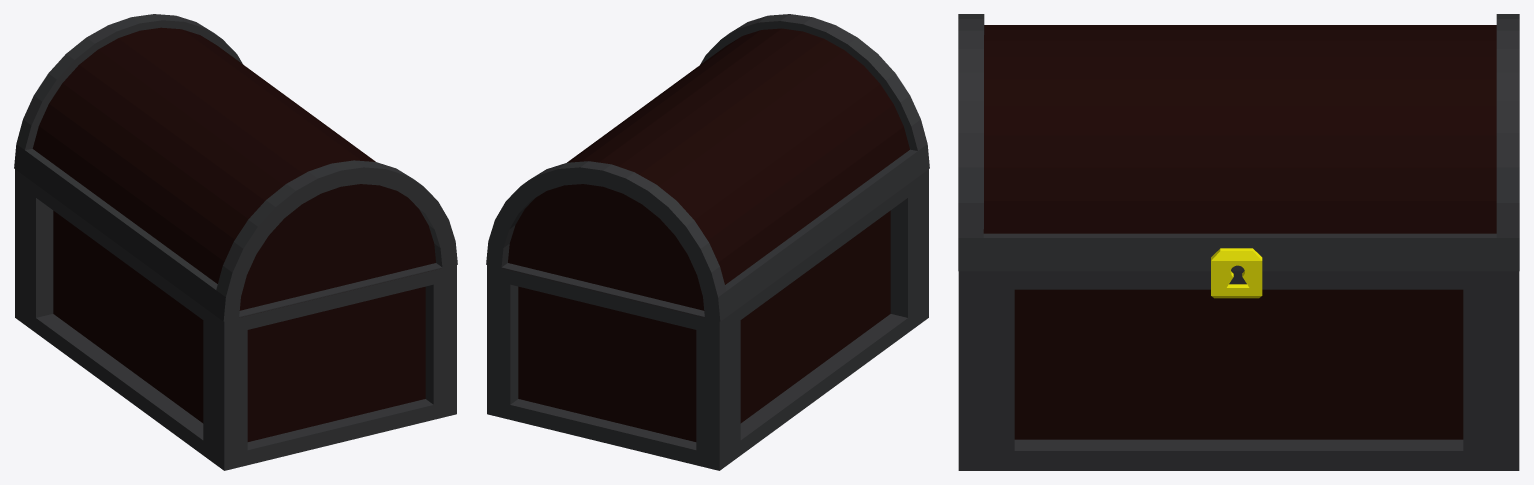
The model's file is chest.obj.
3 views of the same model, side by side, from view 1: azimuth 30°, elevation 25°; view 2: azimuth 150°, elevation 25°; view 3: azimuth 270°, elevation 25° (orthographic). The views are drawn at different scales.
Visible parts, largest first — view 1: Top, Bottom; view 2: Top, Bottom; view 3: Top, Bottom, Cube.
Boxes of the visible parts, x1,y1,x2,y2 form: Top: [14, 14, 457, 321]; Bottom: [15, 169, 456, 470]; Top: [486, 14, 929, 321]; Bottom: [487, 169, 928, 470]; Top: [958, 14, 1519, 271]; Bottom: [958, 271, 1519, 470]; Cube: [1211, 248, 1262, 298].
Size of the model in its own units: 1.48 by 1.61 by 2.25.
